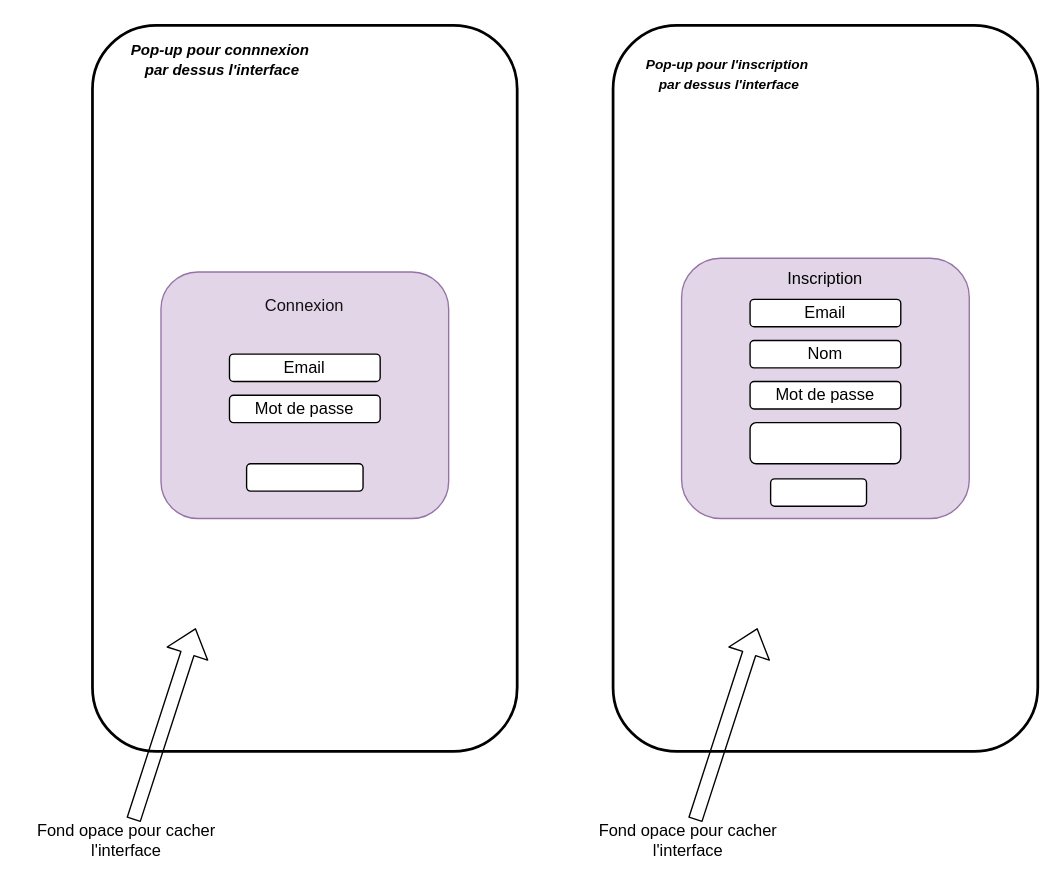
This 1062x884 diagram has some shape labels left out. The centre of each missing label's shape, as x and y in pixels:
"Confirmation mot de passe" belongs at [825,442].
"S'inscrire" belongs at [818,491].
"Se connecter" belongs at [304,476].
